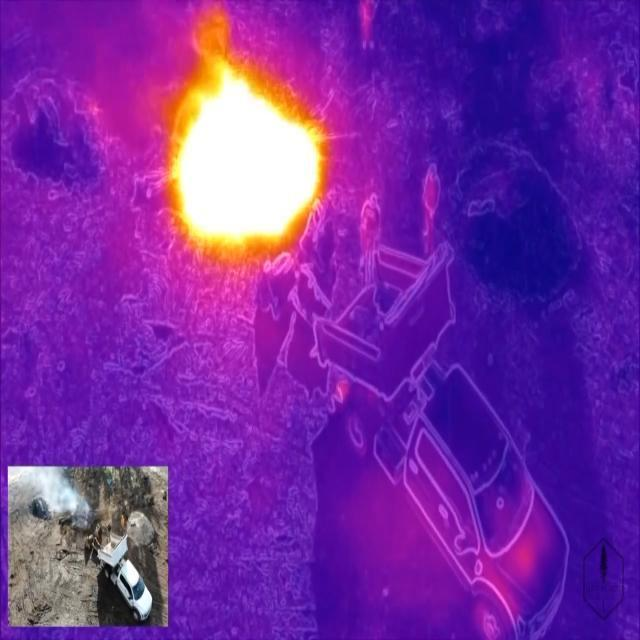fire: (170, 53, 328, 261)
